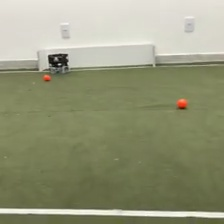ball: (176, 95, 188, 110), (42, 72, 51, 81)
goal: (35, 41, 157, 73)
robot: (46, 50, 73, 73)
